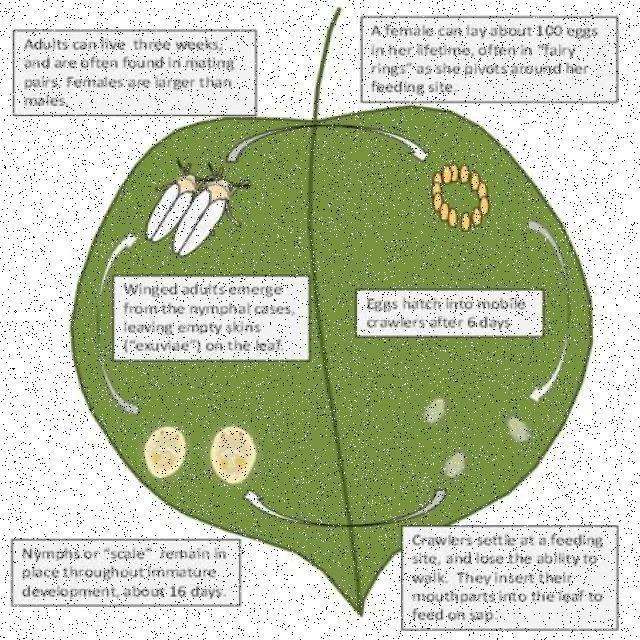Whiteflies: (142, 161, 248, 253)
